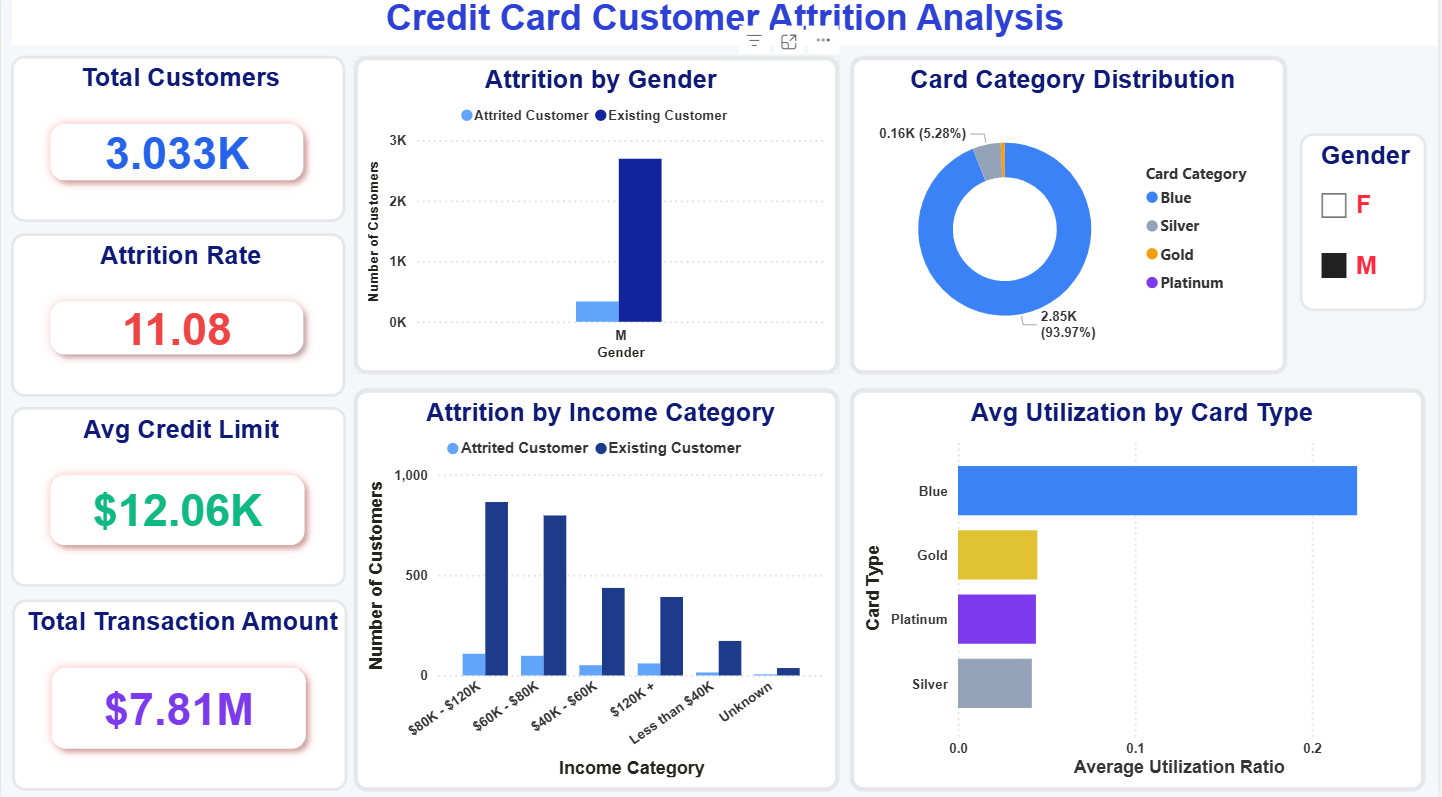

What the dashboard file says about the page in this screenshot:
{"tool":"powerbi","page":{"name":"Executive Overview","canvas":[1280,720],"ordinal":0},"visuals":[{"type":"textbox","box":[10.5,0,1269.8,47.7],"z":0},{"type":"cardVisual","title":"Total Customers","fields":{"Data":["CountNonNull(cleaned_credit_card_customers.CLIENTNUM)"]},"box":[9.3,57,297.7,147.7],"z":1000},{"type":"cardVisual","title":"Attrition Rate","fields":{"Data":["cleaned_credit_card_customers.Attrition Rate"]},"box":[9.3,215.1,297.7,145.3],"z":2000},{"type":"cardVisual","title":"Avg Credit Limit","fields":{"Data":["Avg(cleaned_credit_card_customers.Credit_Limit)"]},"box":[8.9,369.6,298.3,160.3],"z":3000},{"type":"cardVisual","title":"Total Transaction Amount","fields":{"Data":["Sum(cleaned_credit_card_customers.Total_Trans_Amt)"]},"box":[10,541,298.3,170.3],"z":4000},{"type":"slicer","title":"Gender","fields":{"Values":["cleaned_credit_card_customers.Gender"]},"box":[1093.3,56.7,178.3,147.5],"z":5000},{"type":"clusteredColumnChart","title":"Attrition by Gender","fields":{"Series":["cleaned_credit_card_customers.Attrition_Flag"],"Category":["cleaned_credit_card_customers.Gender"],"Y":["CountNonNull(cleaned_credit_card_customers.CLIENTNUM)"]},"box":[314,57,432.6,283.7],"z":6000},{"type":"clusteredColumnChart","title":"Attrition by Income Category","fields":{"Category":["cleaned_credit_card_customers.Income_Category"],"Y":["CountNonNull(cleaned_credit_card_customers.CLIENTNUM)"],"Series":["cleaned_credit_card_customers.Attrition_Flag"]},"box":[314,352.3,432.6,359.3],"z":7000},{"type":"donutChart","title":"Card Category Distribution","fields":{"Category":["cleaned_credit_card_customers.Card_Category"],"Y":["CountNonNull(cleaned_credit_card_customers.CLIENTNUM)"]},"box":[755,56.7,320,283.3],"z":8000},{"type":"clusteredBarChart","title":"Avg Utilization by Card Type","fields":{"Category":["cleaned_credit_card_customers.Card_Category"],"Y":["Avg(cleaned_credit_card_customers.Avg_Utilization_Ratio)"]},"box":[755.8,352.3,512.8,359.3],"z":9000},{"type":"slicer","fields":{"Values":["cleaned_credit_card_customers.Attrition_Flag"]},"box":[1086.7,229.2,185,110.8],"z":10000}]}

Visuals, with their boxes in screenshot pixels (x1, y1, x2, y2), scaled from the page's 1280x720 canvas onto the 1442x797 screenshot:
textbox: bbox=(12, 0, 1441, 53)
"Total Customers" cardVisual: bbox=(10, 63, 346, 227)
"Attrition Rate" cardVisual: bbox=(10, 238, 346, 399)
"Avg Credit Limit" cardVisual: bbox=(10, 409, 346, 587)
"Total Transaction Amount" cardVisual: bbox=(11, 599, 347, 787)
"Gender" slicer: bbox=(1232, 63, 1433, 226)
"Attrition by Gender" clusteredColumnChart: bbox=(354, 63, 841, 377)
"Attrition by Income Category" clusteredColumnChart: bbox=(354, 390, 841, 788)
"Card Category Distribution" donutChart: bbox=(851, 63, 1211, 376)
"Avg Utilization by Card Type" clusteredBarChart: bbox=(851, 390, 1429, 788)
slicer - cleaned_credit_card_customers.Attrition_Flag: bbox=(1224, 254, 1433, 376)
